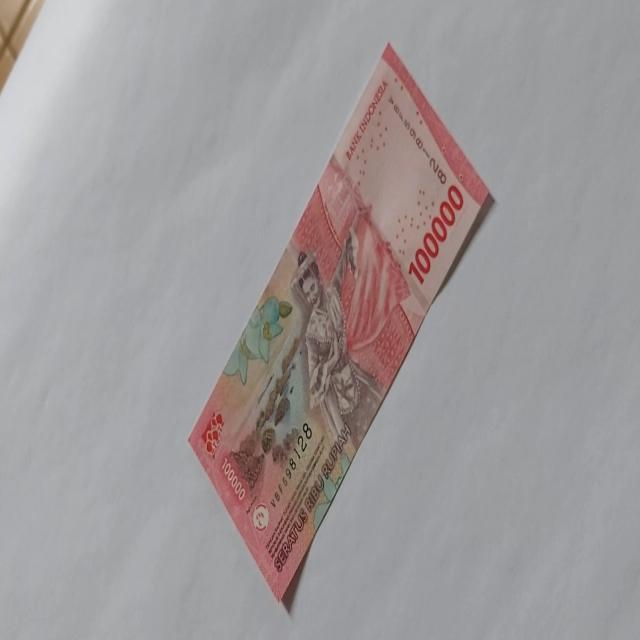seratus ribu rupiah: (186, 41, 494, 604)
